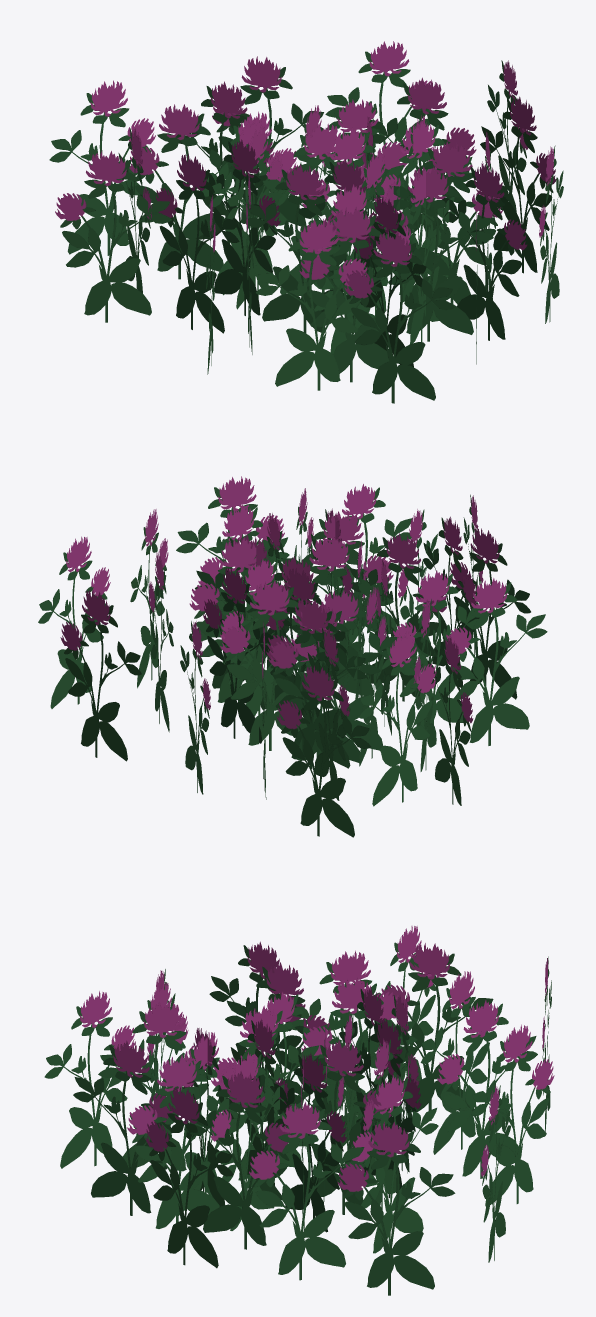
File: space_clover.fbx
3 views of the same model, one above another, from view 1: azimuth 30°, elevation 25°; view 2: azimuth 150°, elevation 25°; view 3: azimuth 270°, elevation 25° (orthographic). The views are drawn at different scales.
Visible parts, largest first — view 1: Cube_42; view 2: Cube_42; view 3: Cube_42.
Part boxes in pixels (bbox=[...]): Cube_42: bbox=[49, 41, 563, 403]; Cube_42: bbox=[38, 476, 547, 837]; Cube_42: bbox=[44, 926, 554, 1295].
Size of the model in its own units: 60.91 by 22.42 by 62.54.
1 material, 1 textured.
